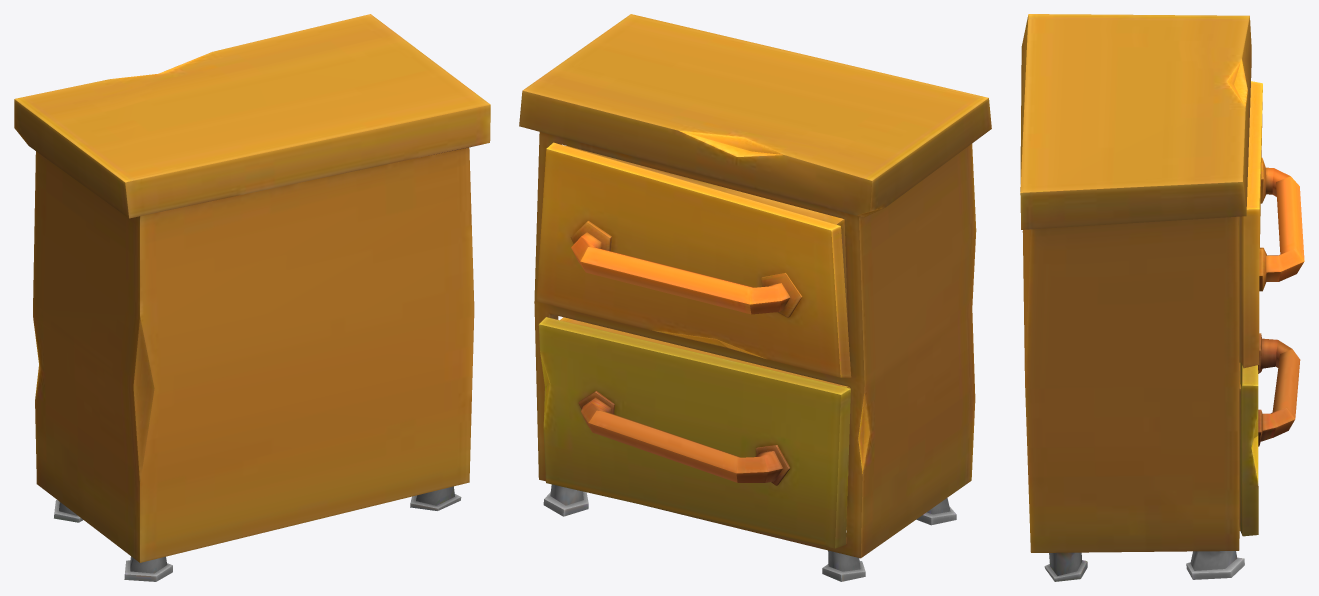
The model's file is obj_dresser01_base.gltf.
The picture shows the model from 3 angles, left to right: view 1: azimuth 30°, elevation 25°; view 2: azimuth 150°, elevation 25°; view 3: azimuth 270°, elevation 25°; orthographic projection. The views are drawn at different scales.
Visible parts, largest first — view 1: obj_dresser01_base; view 2: obj_dresser01_base; view 3: obj_dresser01_base.
Part boxes in pixels (x1=…): obj_dresser01_base: x1=14, y1=14, x2=490, y2=581; obj_dresser01_base: x1=519, y1=14, x2=991, y2=581; obj_dresser01_base: x1=1020, y1=14, x2=1304, y2=581.
Size of what is drawn, in the model's own units: 0.9375 by 1.03 by 0.6555.
Materials: 1 (1 with a texture image).
